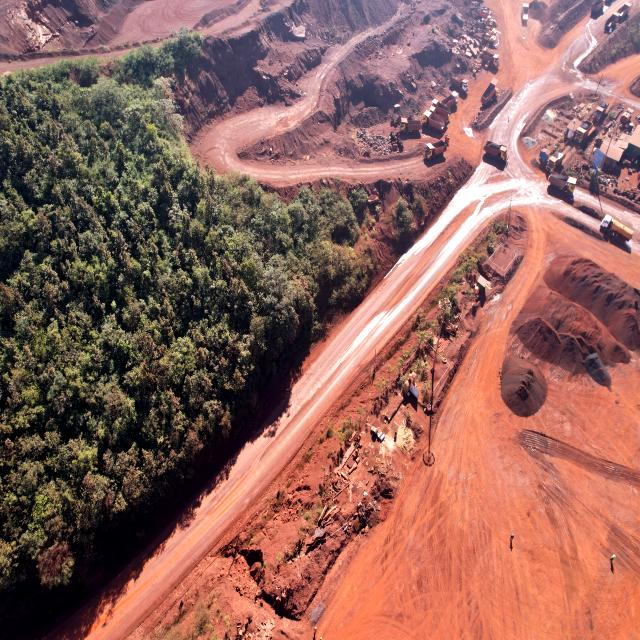Dumper truck: (483, 140, 508, 164), (550, 175, 576, 194), (568, 123, 590, 143), (426, 110, 446, 130), (427, 100, 447, 118), (426, 141, 445, 159), (547, 152, 564, 172), (401, 118, 420, 135), (481, 52, 500, 68), (482, 85, 497, 104), (452, 77, 468, 93), (590, 1, 606, 16), (445, 91, 459, 108), (594, 101, 608, 118), (616, 3, 630, 18), (604, 18, 616, 32), (522, 3, 530, 18)
Excavator: (482, 31, 495, 44), (470, 29, 487, 36)
person: (610, 555, 619, 563), (510, 533, 514, 541)
